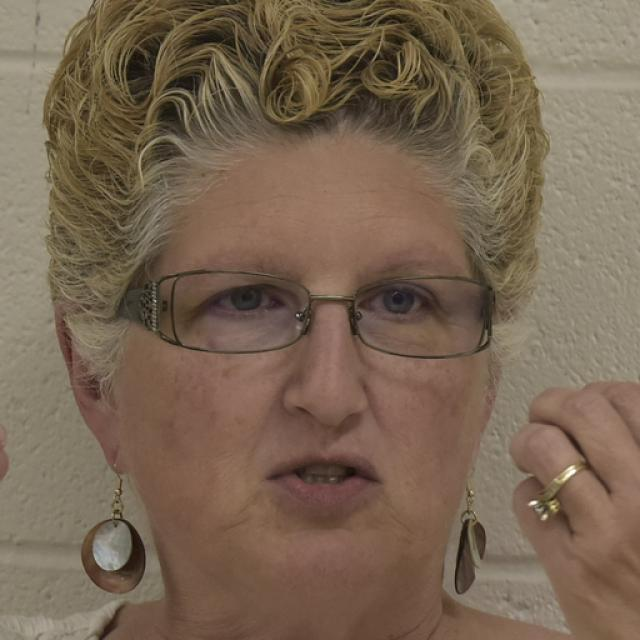disgust: (117, 137, 491, 598)
